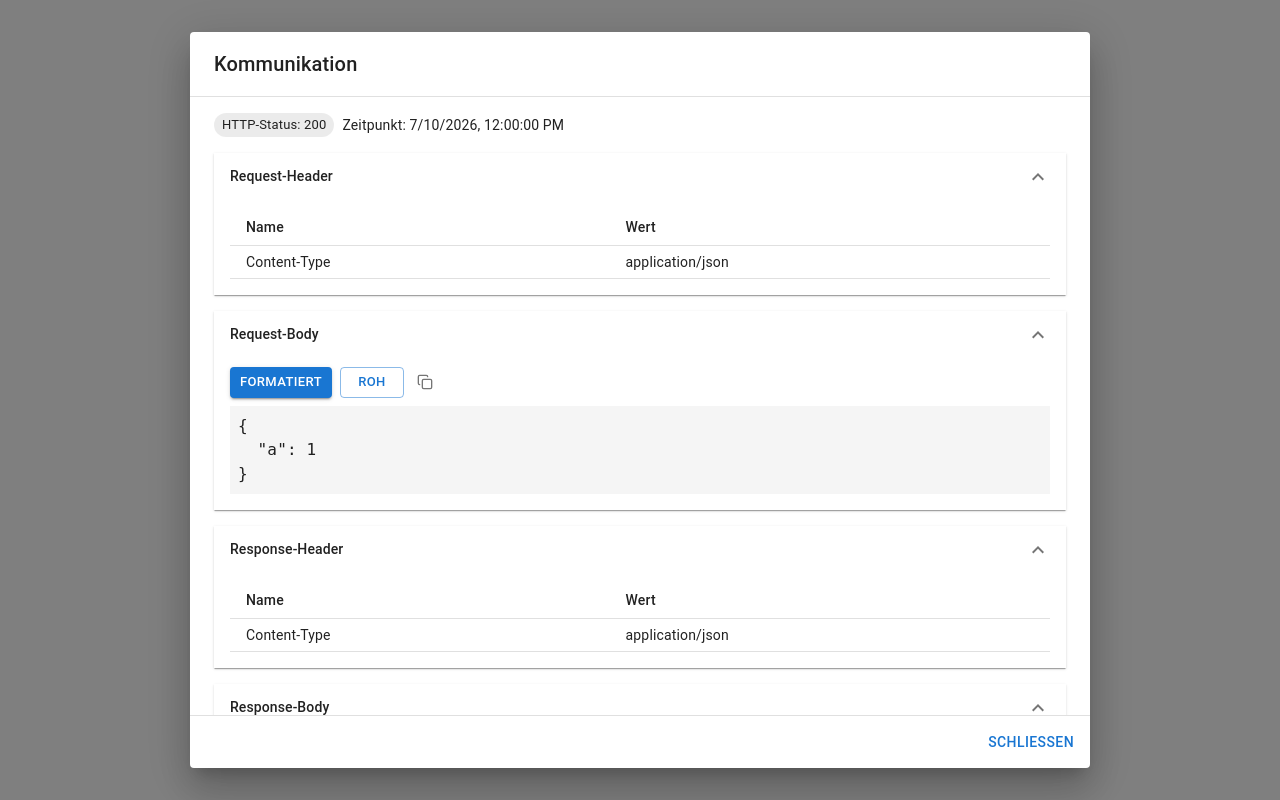
Test: toggles the request body between pretty and raw
The width and height of the screenshot is (1280, 800).
Check: the text "{ \"a\": 1 }" is shown, box 230,406 -> 1050,494
Click the button "Roh".
click(372, 382)  # box 340,367 -> 404,398
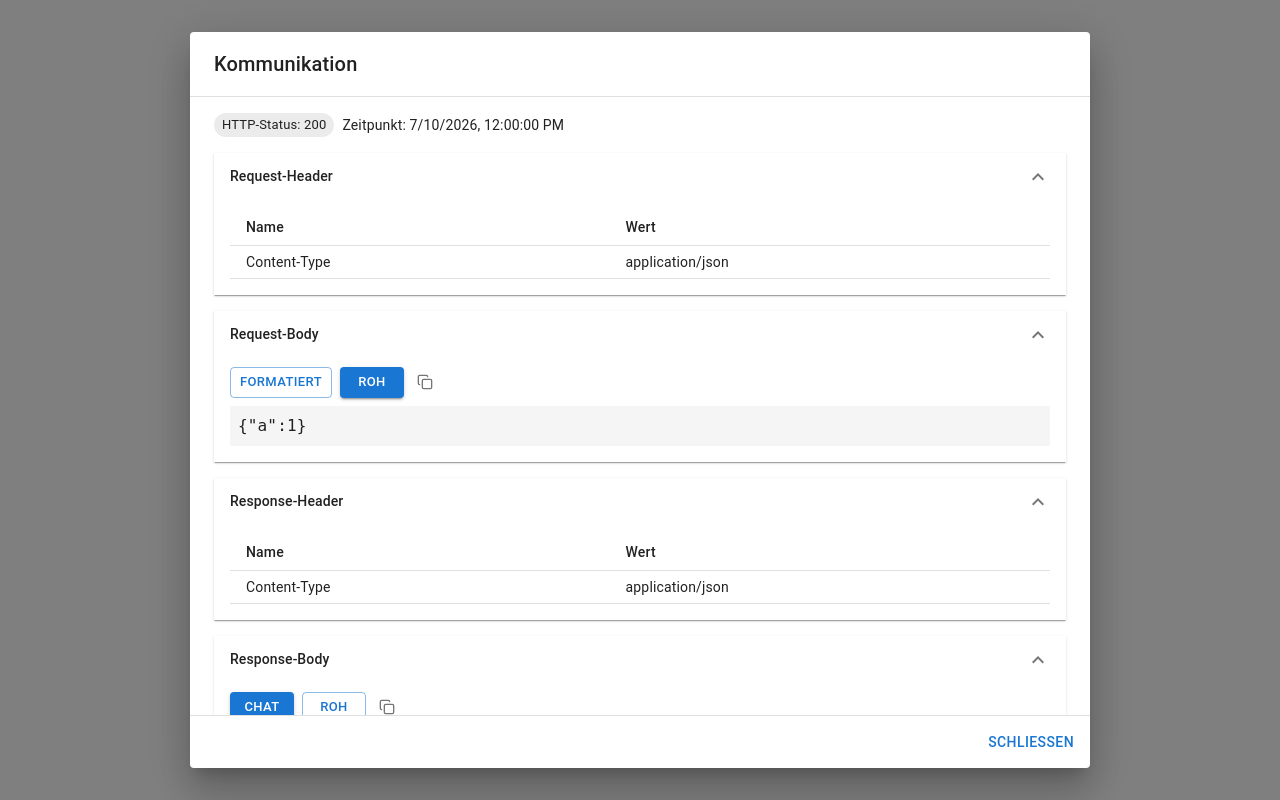
Check: the text "{\"a\":1}" is shown, box 230,406 -> 1050,446
